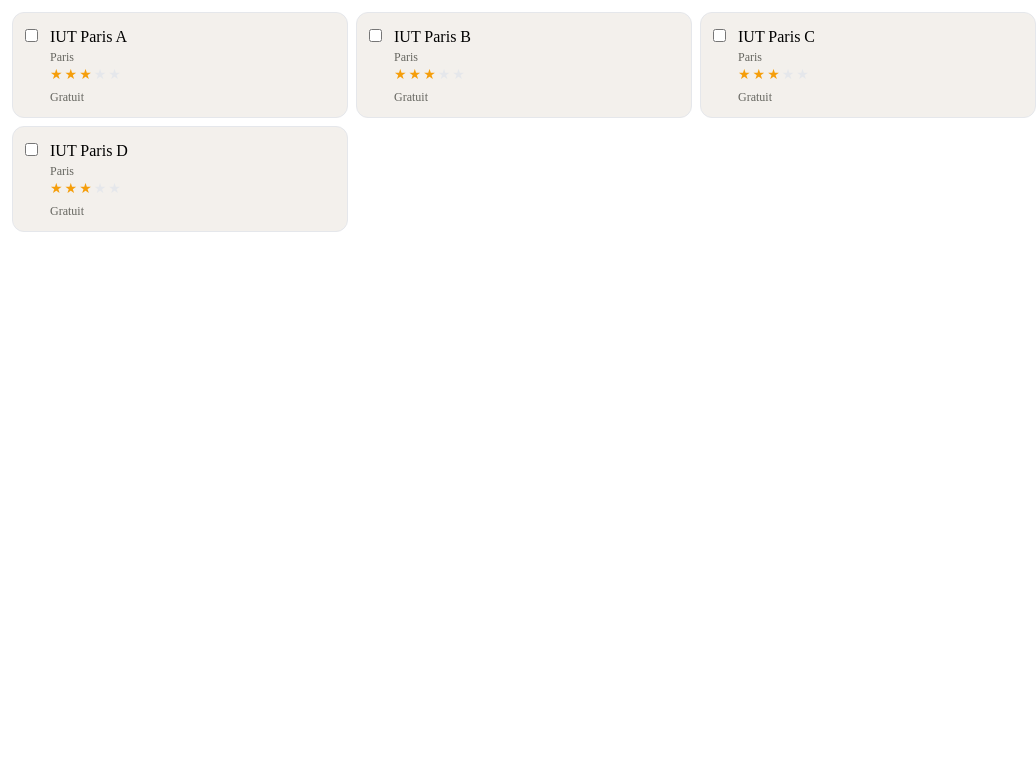
Test: SchoolCompare › shows max-selection status message when 3 schools selected
This screenshot has width=1036, height=780.
Click the checkbox labelled "IUT Paris A Paris ★ ★ ★ ★ ★ Gratuit": (32, 36) [25,29,38,42]
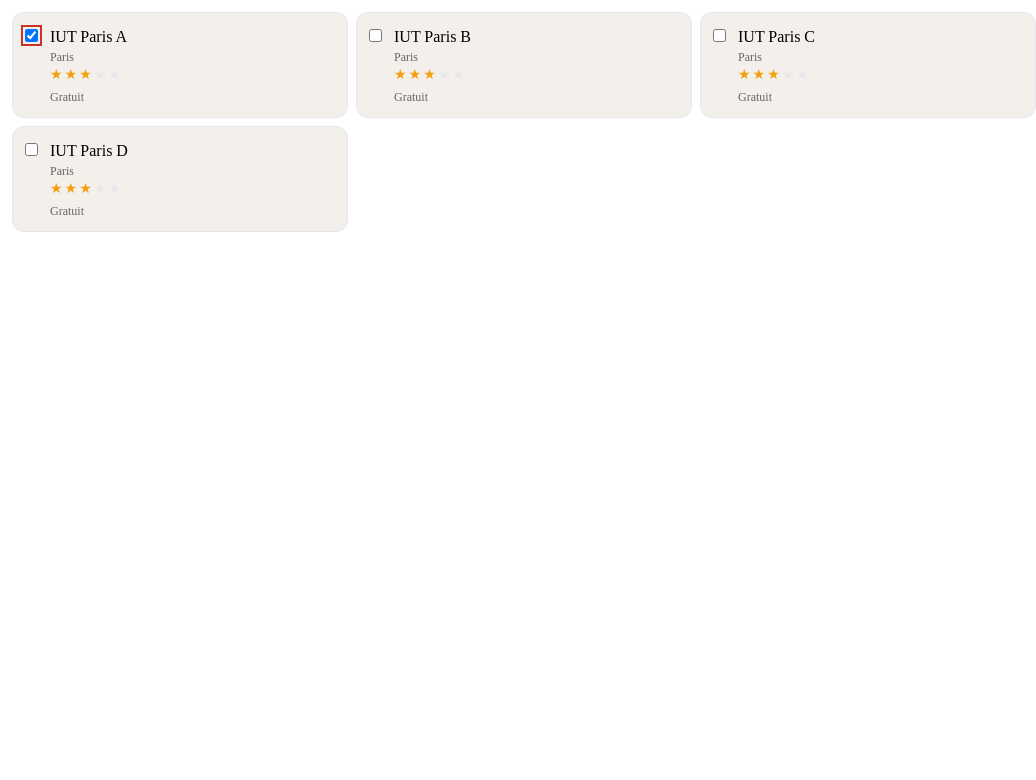
Click the checkbox labelled "IUT Paris B Paris ★ ★ ★ ★ ★ Gratuit": (376, 36) [369,29,382,42]
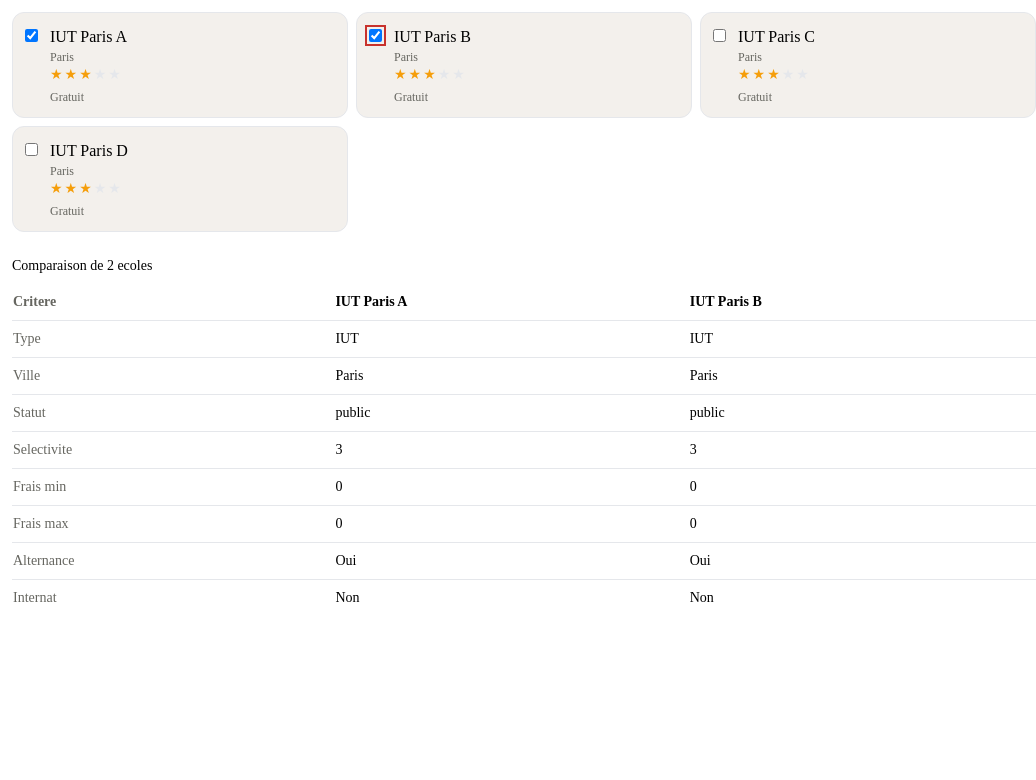
Click the checkbox labelled "IUT Paris C Paris ★ ★ ★ ★ ★ Gratuit": (720, 36) [713,29,726,42]
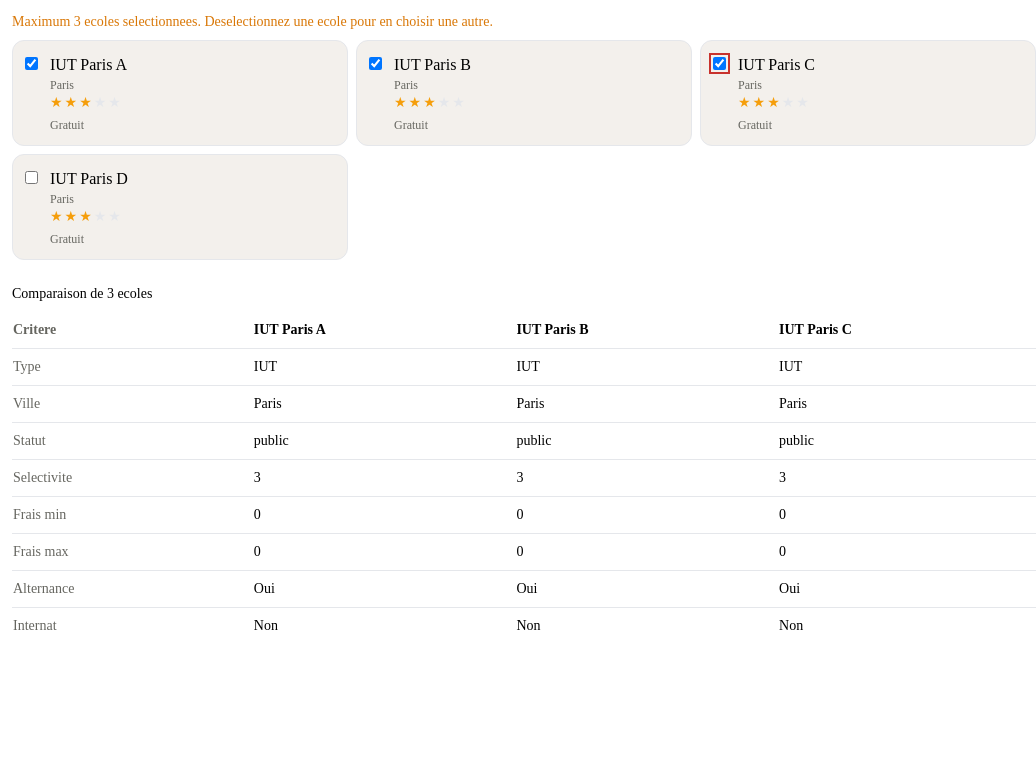
Check: the message shows "Maximum 3", box [12,14,493,29]
